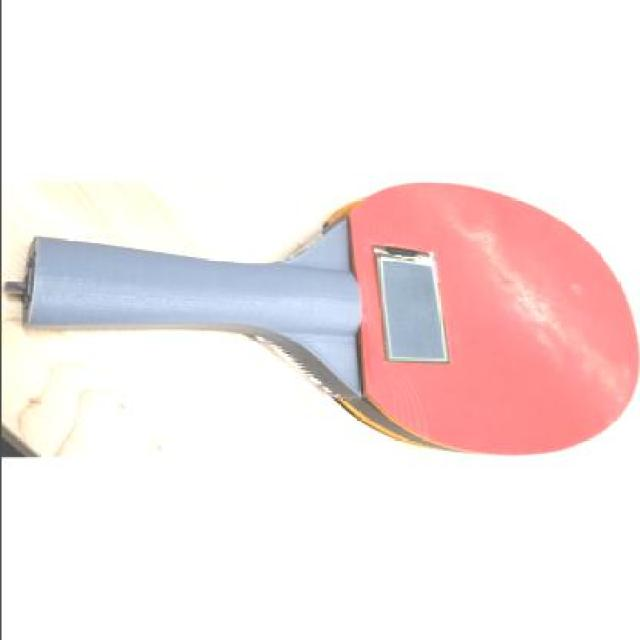table_tennis_racket: (18, 183, 638, 455)
